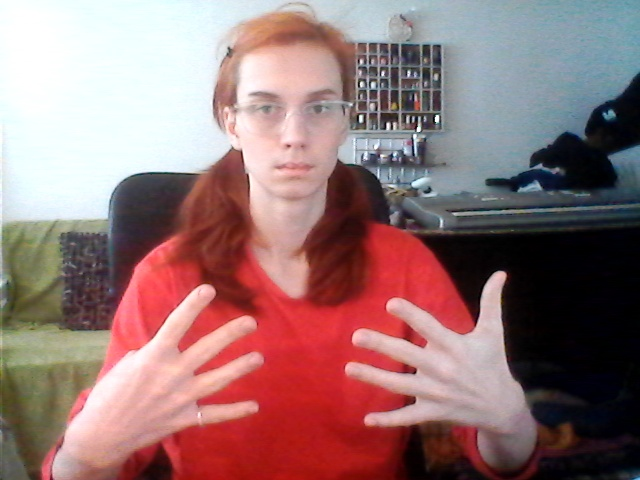devat: (75, 266, 524, 440)
